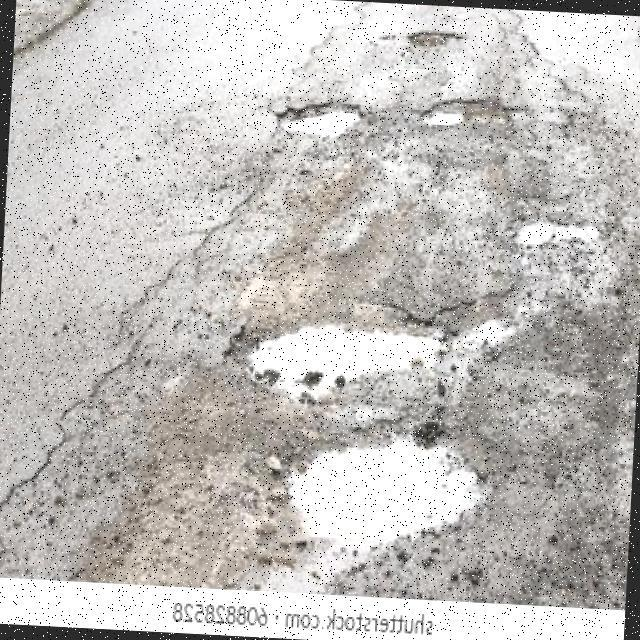Pothole: (291, 440, 480, 550), (230, 327, 439, 393), (420, 99, 532, 127), (282, 107, 358, 139), (407, 31, 464, 47)
